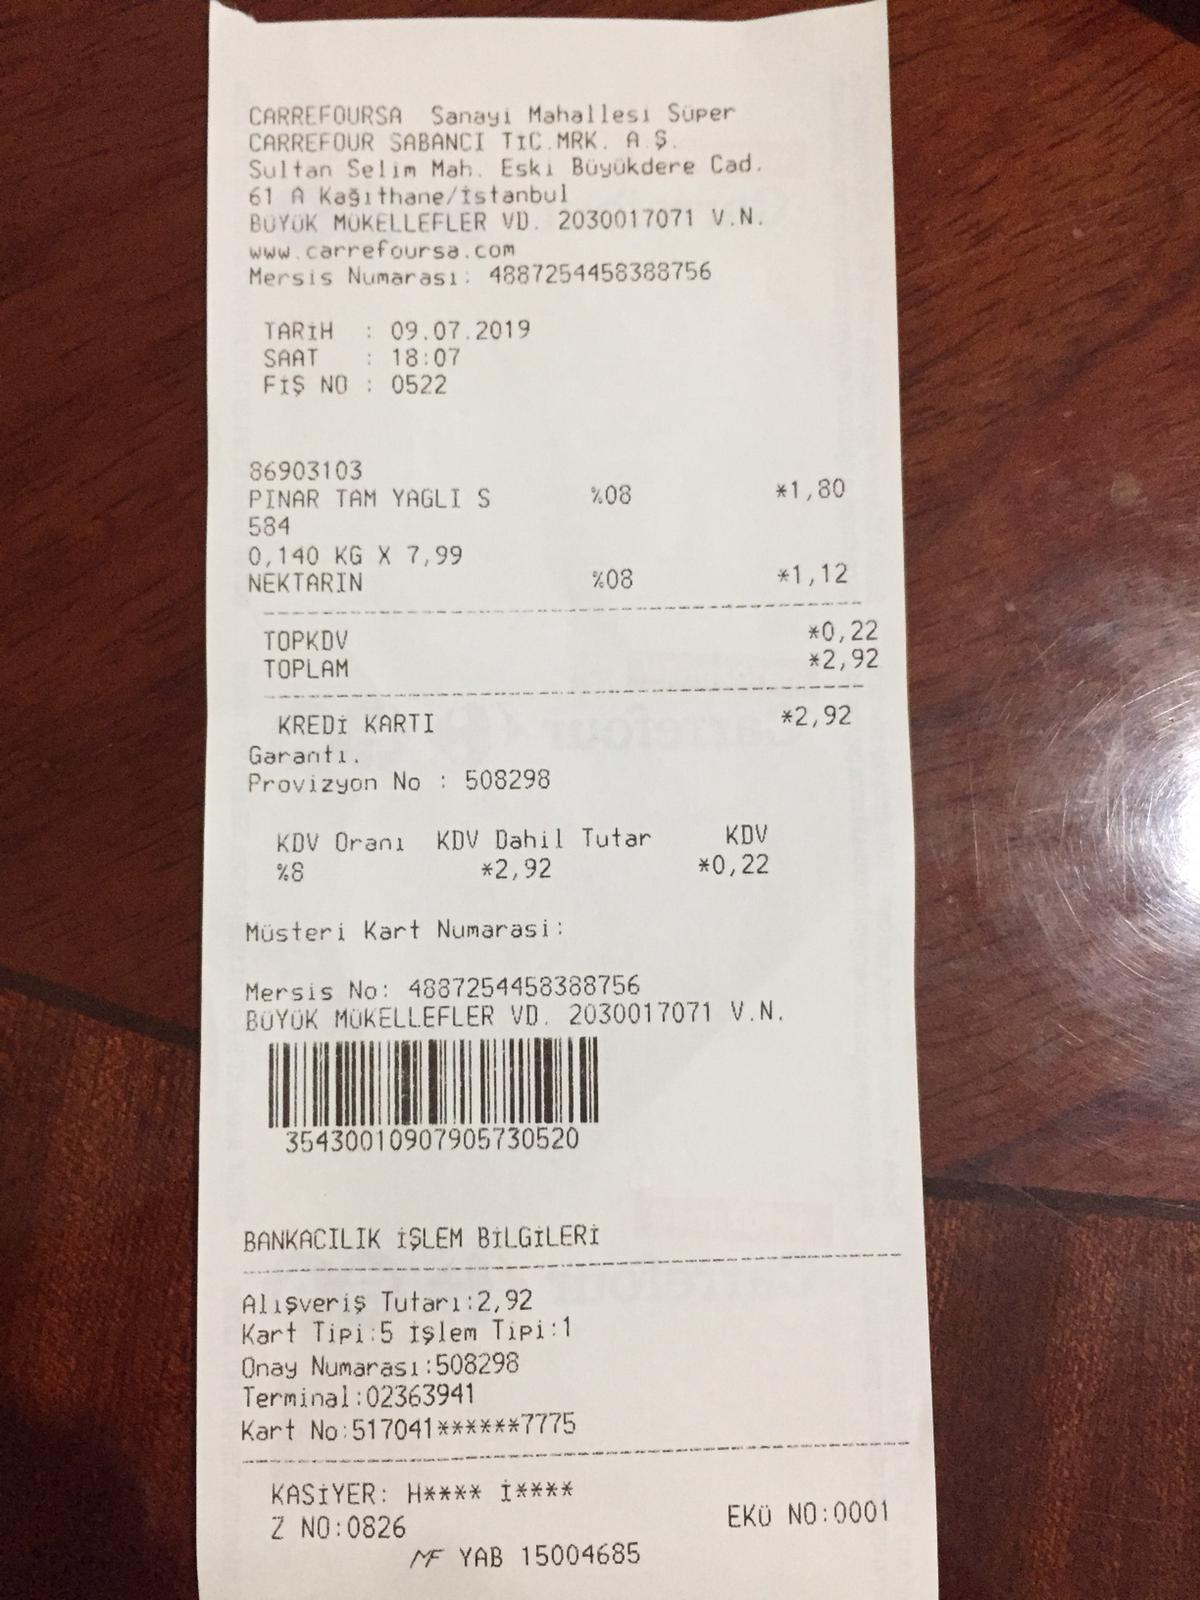total: (262, 643, 885, 689)
